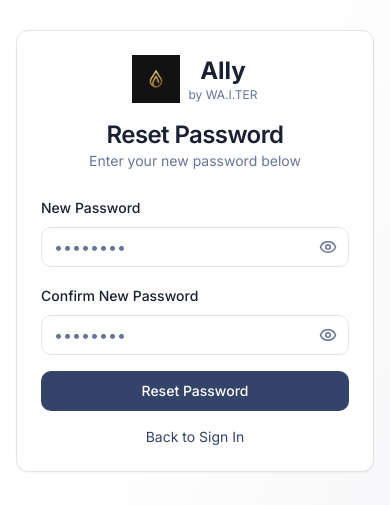
Scenario: ResetPassword › Form Validation › shows error for short password
The image size is (390, 505).
In the password field labelled "New Password": (195, 247) [41,227,349,267], type "123"
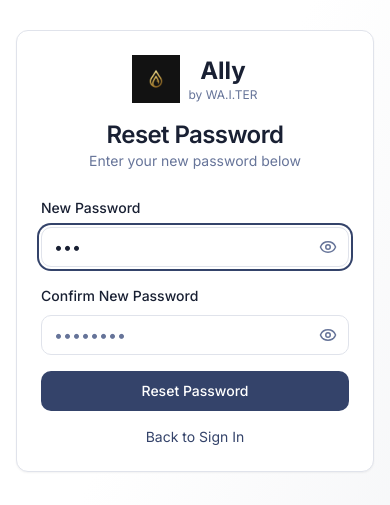
In the password field labelled "Confirm New Password": (195, 335) [41,315,349,355], type "123"
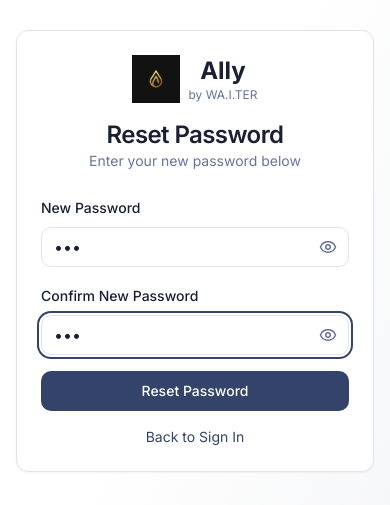
Click the button "Reset Password": (195, 391) [41,371,349,411]
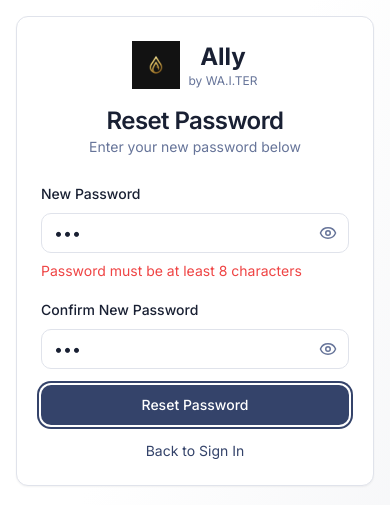
Check: the text "Password must be at least 8 characters" is shown, box [41,262,302,279]
